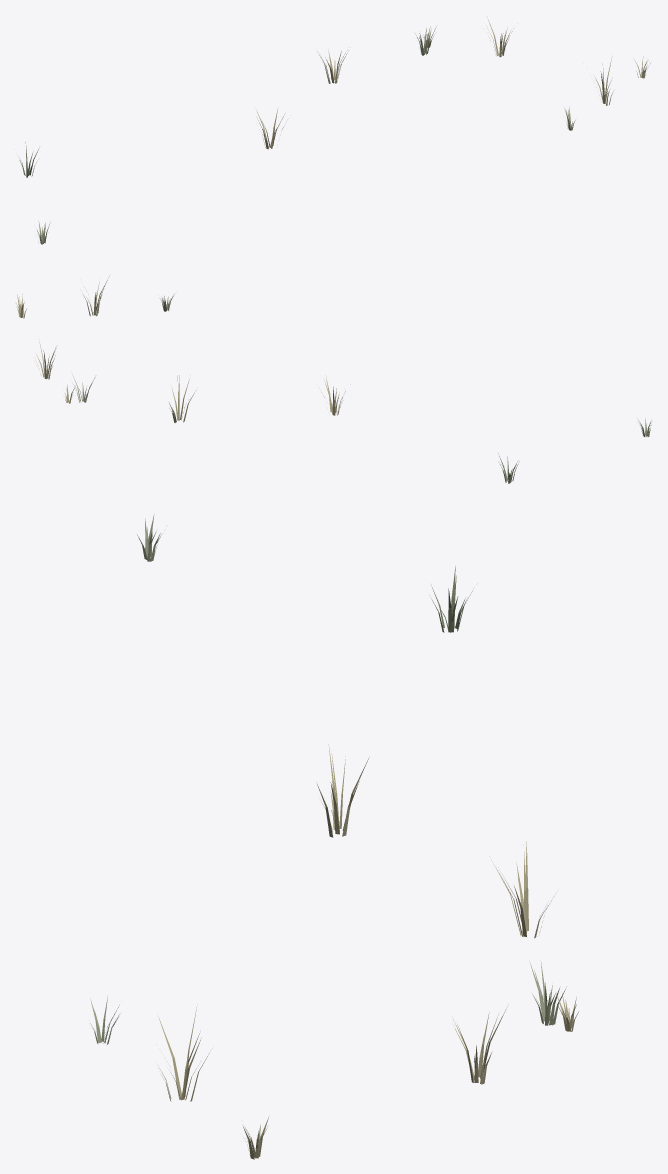
File: AE_Grass_0_-3.fbx
3 views of the same model, one above another, from view 1: azimuth 30°, elevation 25°; view 2: azimuth 150°, elevation 25°; view 3: azimuth 270°, elevation 25° (orthographic). The views are drawn at different scales.
Visible parts, largest first — view 1: AE_Grass_0_-3_LOD0; view 2: AE_Grass_0_-3_LOD0; view 3: AE_Grass_0_-3_LOD0.
Part boxes in pixels (x1,y1,x2,y2): AE_Grass_0_-3_LOD0: (19, 17, 650, 244); AE_Grass_0_-3_LOD0: (16, 276, 651, 483); AE_Grass_0_-3_LOD0: (90, 514, 578, 1159).
Size of what is drawn, in the model's own units: 1442 by 100 by 502.
